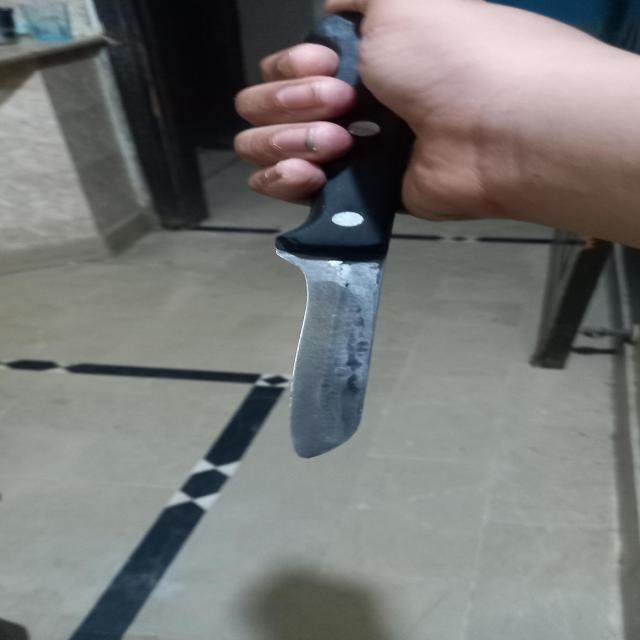Knife: (270, 2, 432, 461)
